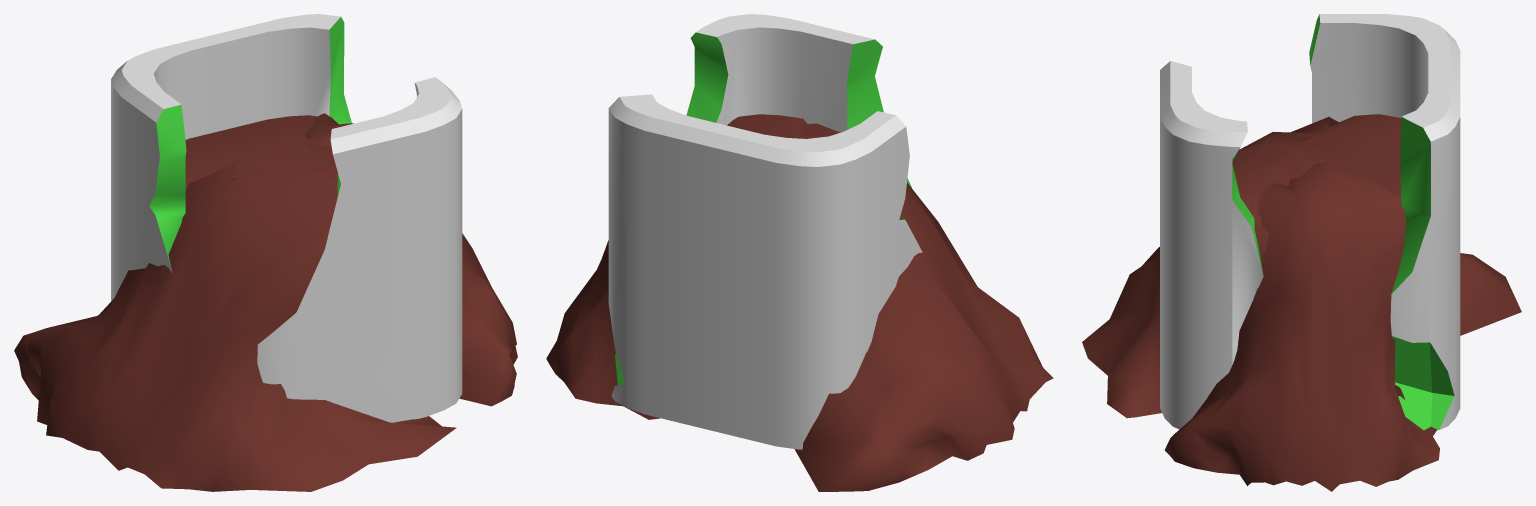
File: Plant Pot Destroyed B.fbx
3 views of the same model, side by side, from view 1: azimuth 30°, elevation 25°; view 2: azimuth 150°, elevation 25°; view 3: azimuth 270°, elevation 25° (orthographic). The views are drawn at different scales.
Parts seen in each view (by area): view 1: Plant Destroyed B; view 2: Plant Destroyed B; view 3: Plant Destroyed B.
Boxes of the visible parts, box(x1,y1,x2,y2) form: Plant Destroyed B: box(14, 14, 517, 491); Plant Destroyed B: box(546, 14, 1053, 491); Plant Destroyed B: box(1082, 14, 1521, 491).
Size of the model in its own units: 1.59 by 1.05 by 1.32.
